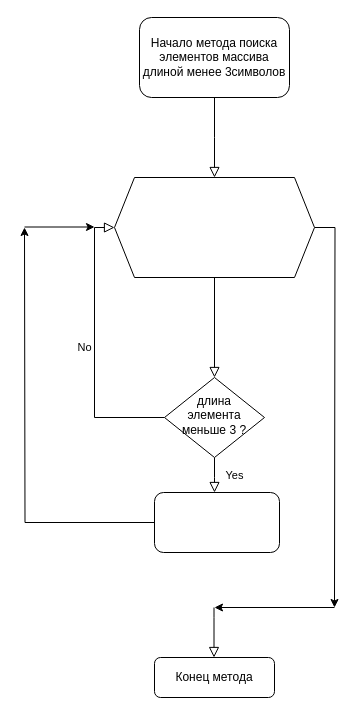
Some shapes in this 361 by 715 pixel diagram are drawn without their labels. The shapes that lost their labels are listed below. From the top down, each one's box as (x1, y1, x2, y2) in pixels, then its label:
(114, 176, 314, 278): Цикл по всем элементам первого массива
(154, 492, 280, 552): Записываем этот элемент в новый массив
